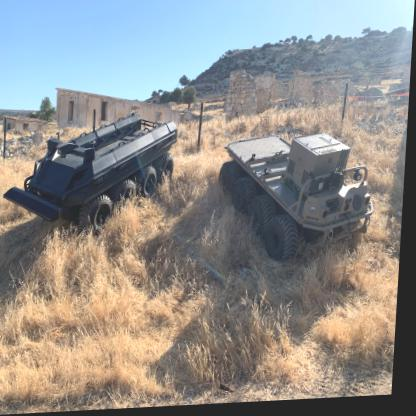UGV: (218, 132, 382, 267), (5, 112, 181, 236)
